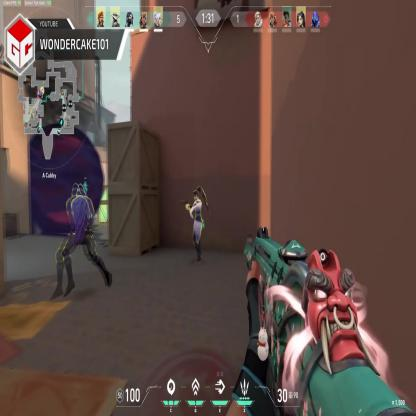enemy: (59, 178, 111, 291), (187, 187, 208, 264)
enemy_head: (76, 183, 84, 197), (194, 191, 198, 201)
